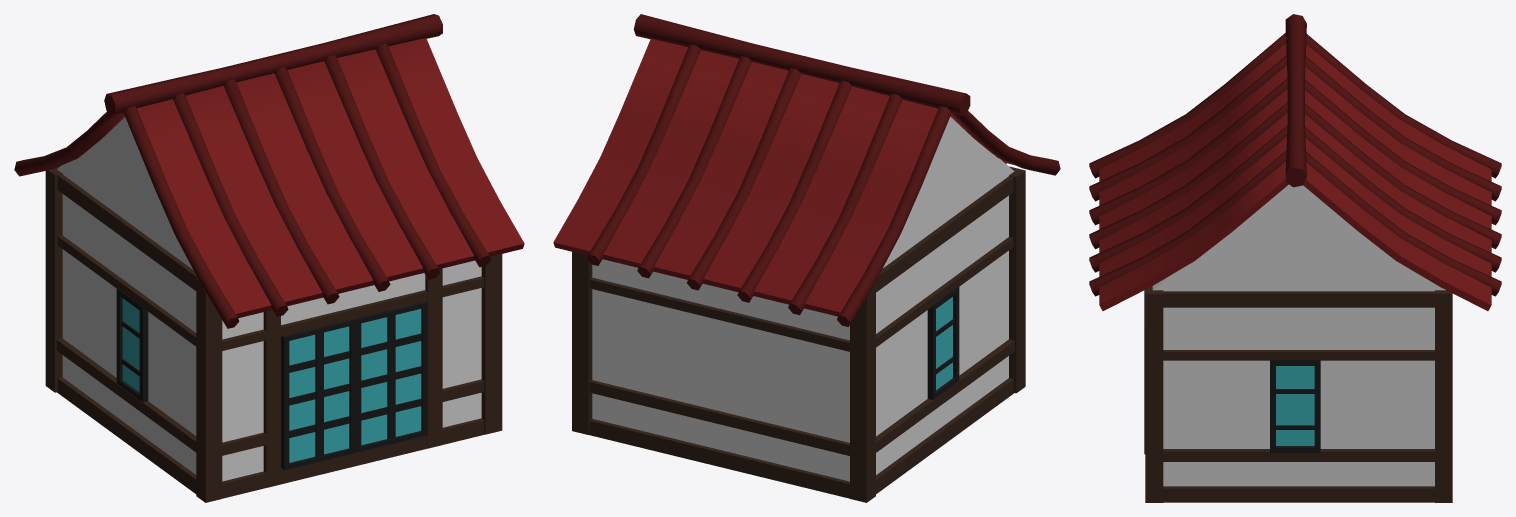
The model's file is SM_house_japan_02.fbx.
3 renders of one model, left to right at view 1: azimuth 30°, elevation 25°; view 2: azimuth 150°, elevation 25°; view 3: azimuth 270°, elevation 25°, orthographic. The views are drawn at different scales.
Parts seen in each view (by area): view 1: Object022; view 2: Object022; view 3: Object022.
Boxes of the visible parts, x1,y1,x2,y2 form: Object022: [14, 14, 524, 502]; Object022: [553, 14, 1060, 502]; Object022: [1089, 14, 1501, 502].
Size of the model in its own units: 182 by 189 by 206.
